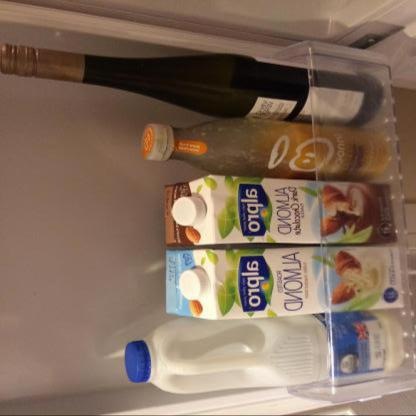Bottle: (125, 340, 151, 383), (179, 268, 210, 300), (141, 124, 167, 162), (172, 197, 206, 226), (1, 43, 29, 78)
Bottle cap: (0, 43, 384, 128), (124, 310, 404, 394), (141, 118, 390, 184)
Carton: (165, 245, 404, 320), (165, 174, 397, 247)
